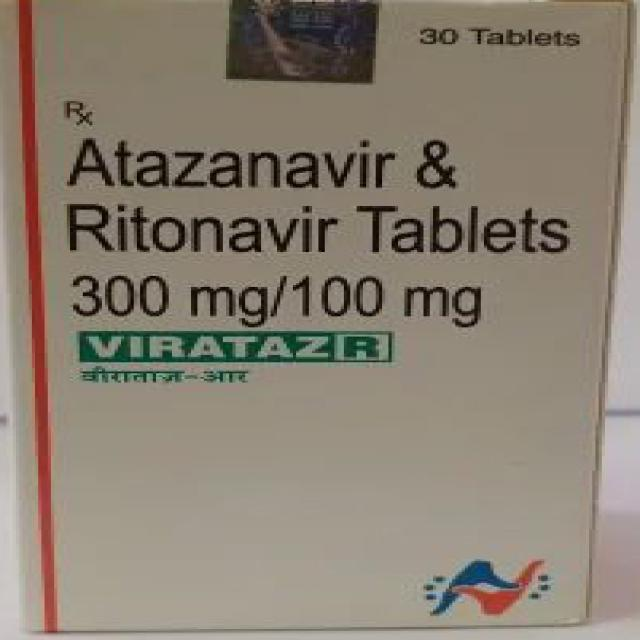drug-name: (75, 327, 393, 364)
